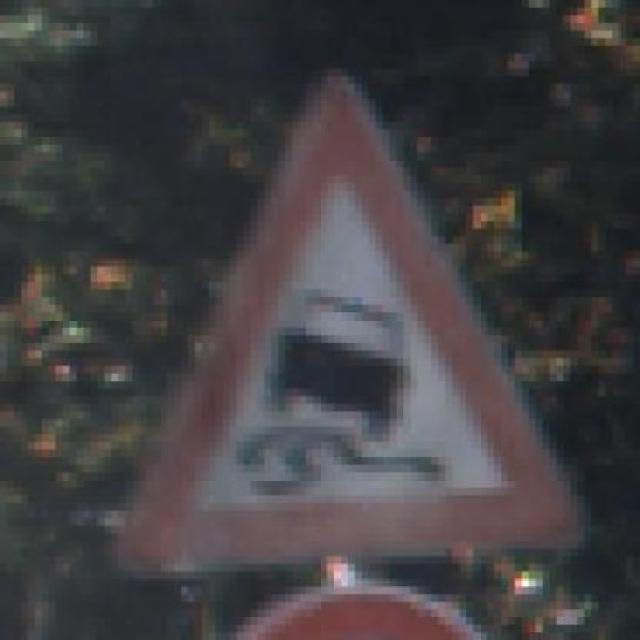Slippery Road Ahead: (118, 68, 592, 587)
